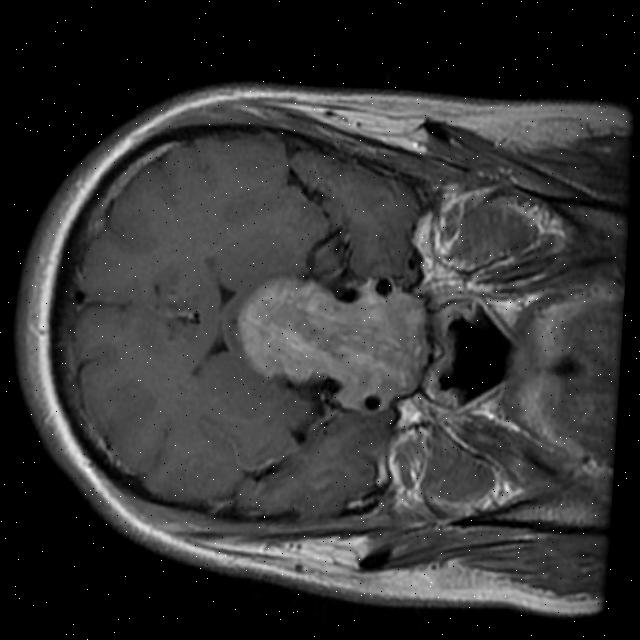Pituitary: (234, 274, 434, 389)
